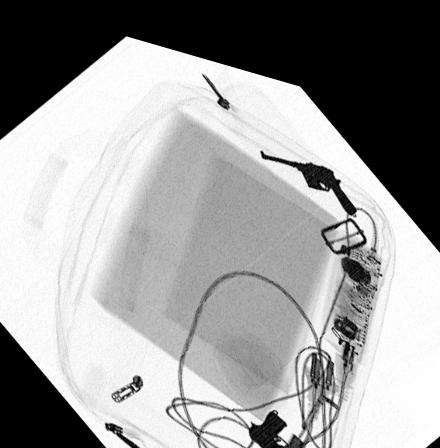Gun: (258, 134, 358, 196), (247, 393, 301, 448)
